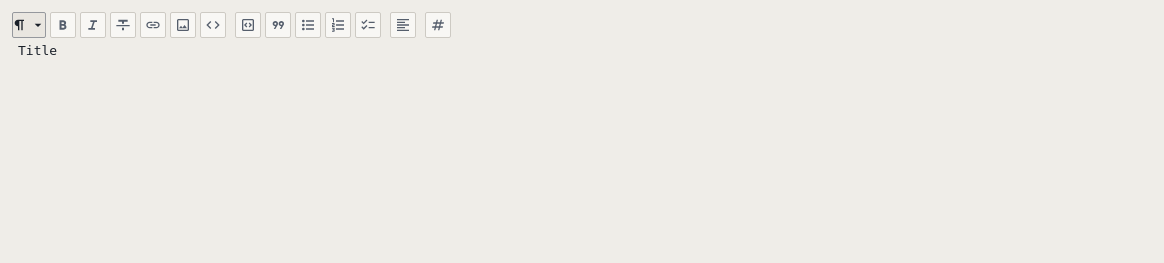
Test: EditorToolbar › runs a selected heading level through the existing command layer
The width and height of the screenshot is (1164, 263).
Click the button named "Text style": [29, 25] box [12,12,46,38]
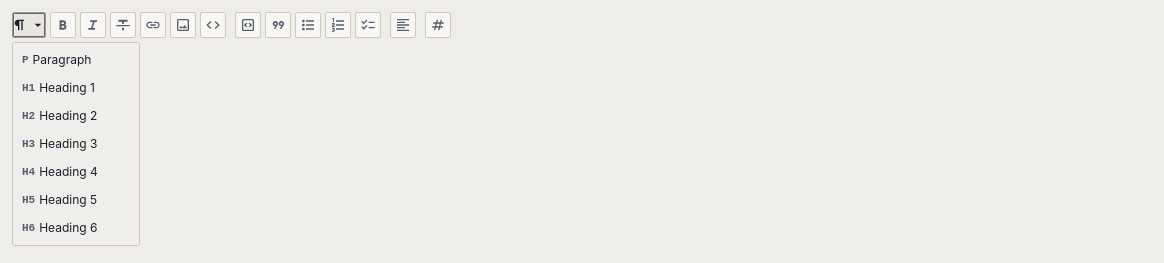
Click the menu item "H2 Heading 2": [76, 116] box [16,102,136,130]
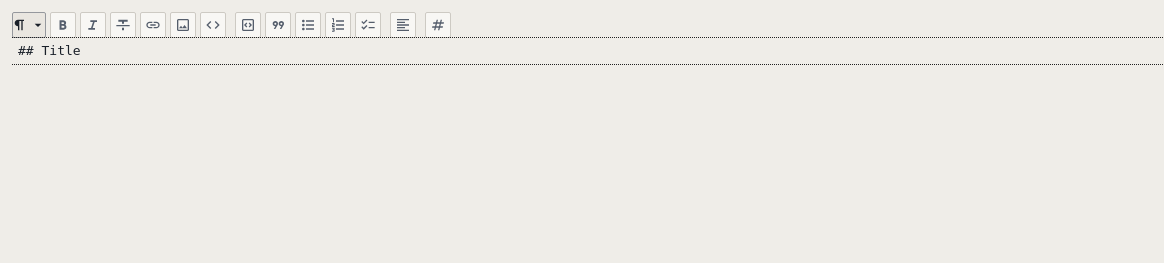
Expected: the text box labelled "## Title" is shown, [18,43,81,58]
